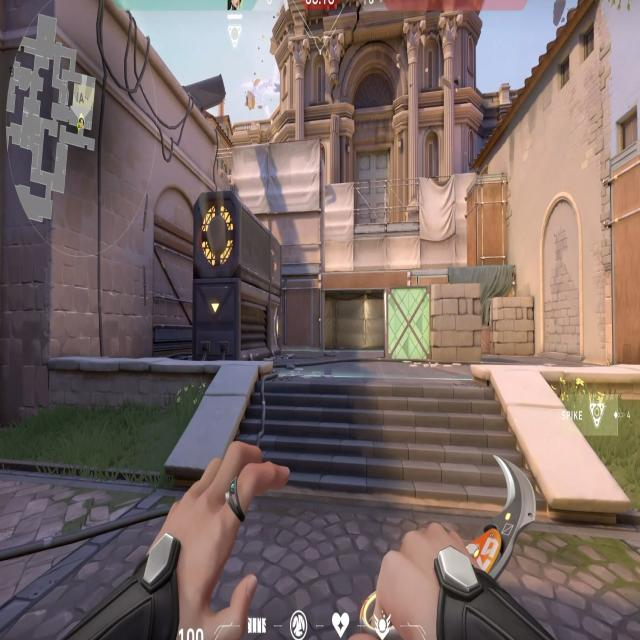A_Heaven_Box: (463, 162, 514, 267)
A_Heaven_Wall: (255, 130, 330, 266)
A_Hell: (311, 266, 395, 356)
A_Site_Box: (382, 280, 487, 368)
